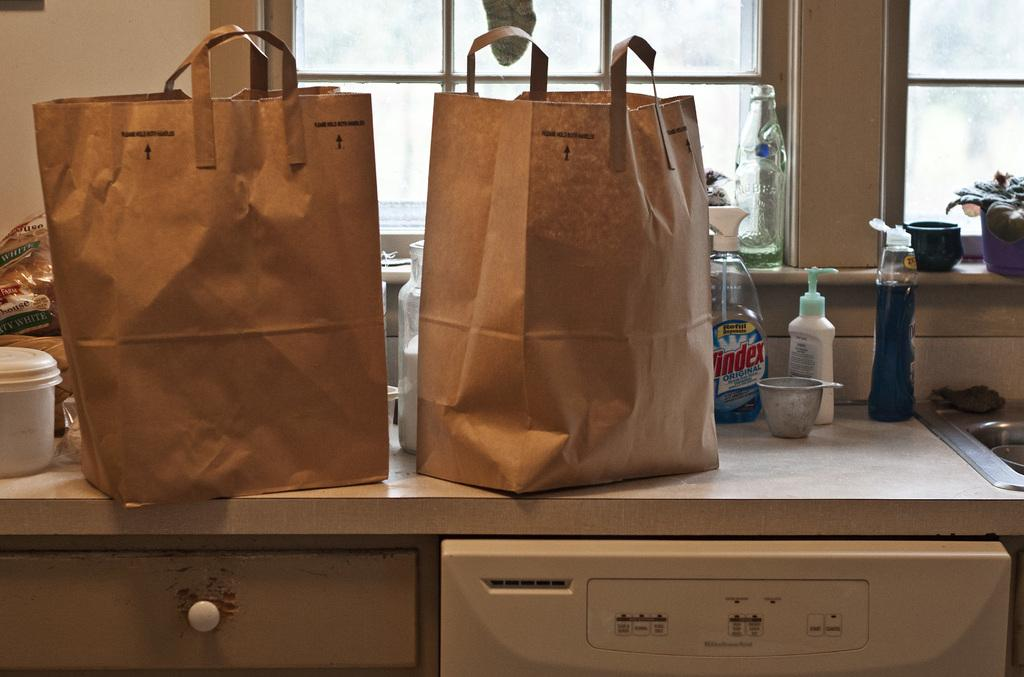Luggage-and-bags: (31, 30, 389, 505), (414, 30, 726, 497)
